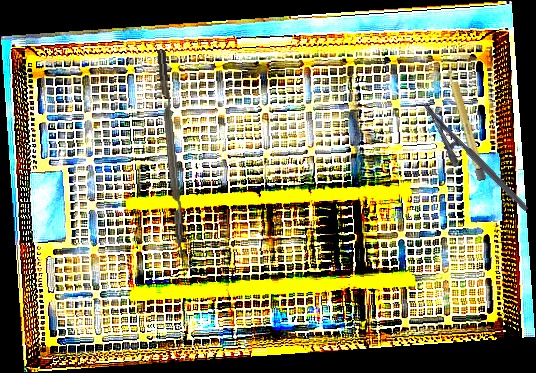Chopper: (157, 48, 196, 274)
Needle Holder: (407, 101, 530, 226)
Scalpel Handle: (445, 65, 487, 182)
